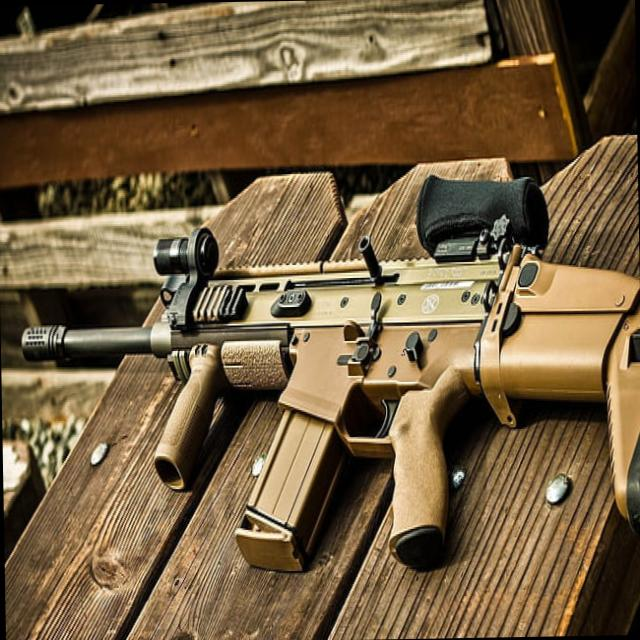Gun: (18, 163, 640, 592)
